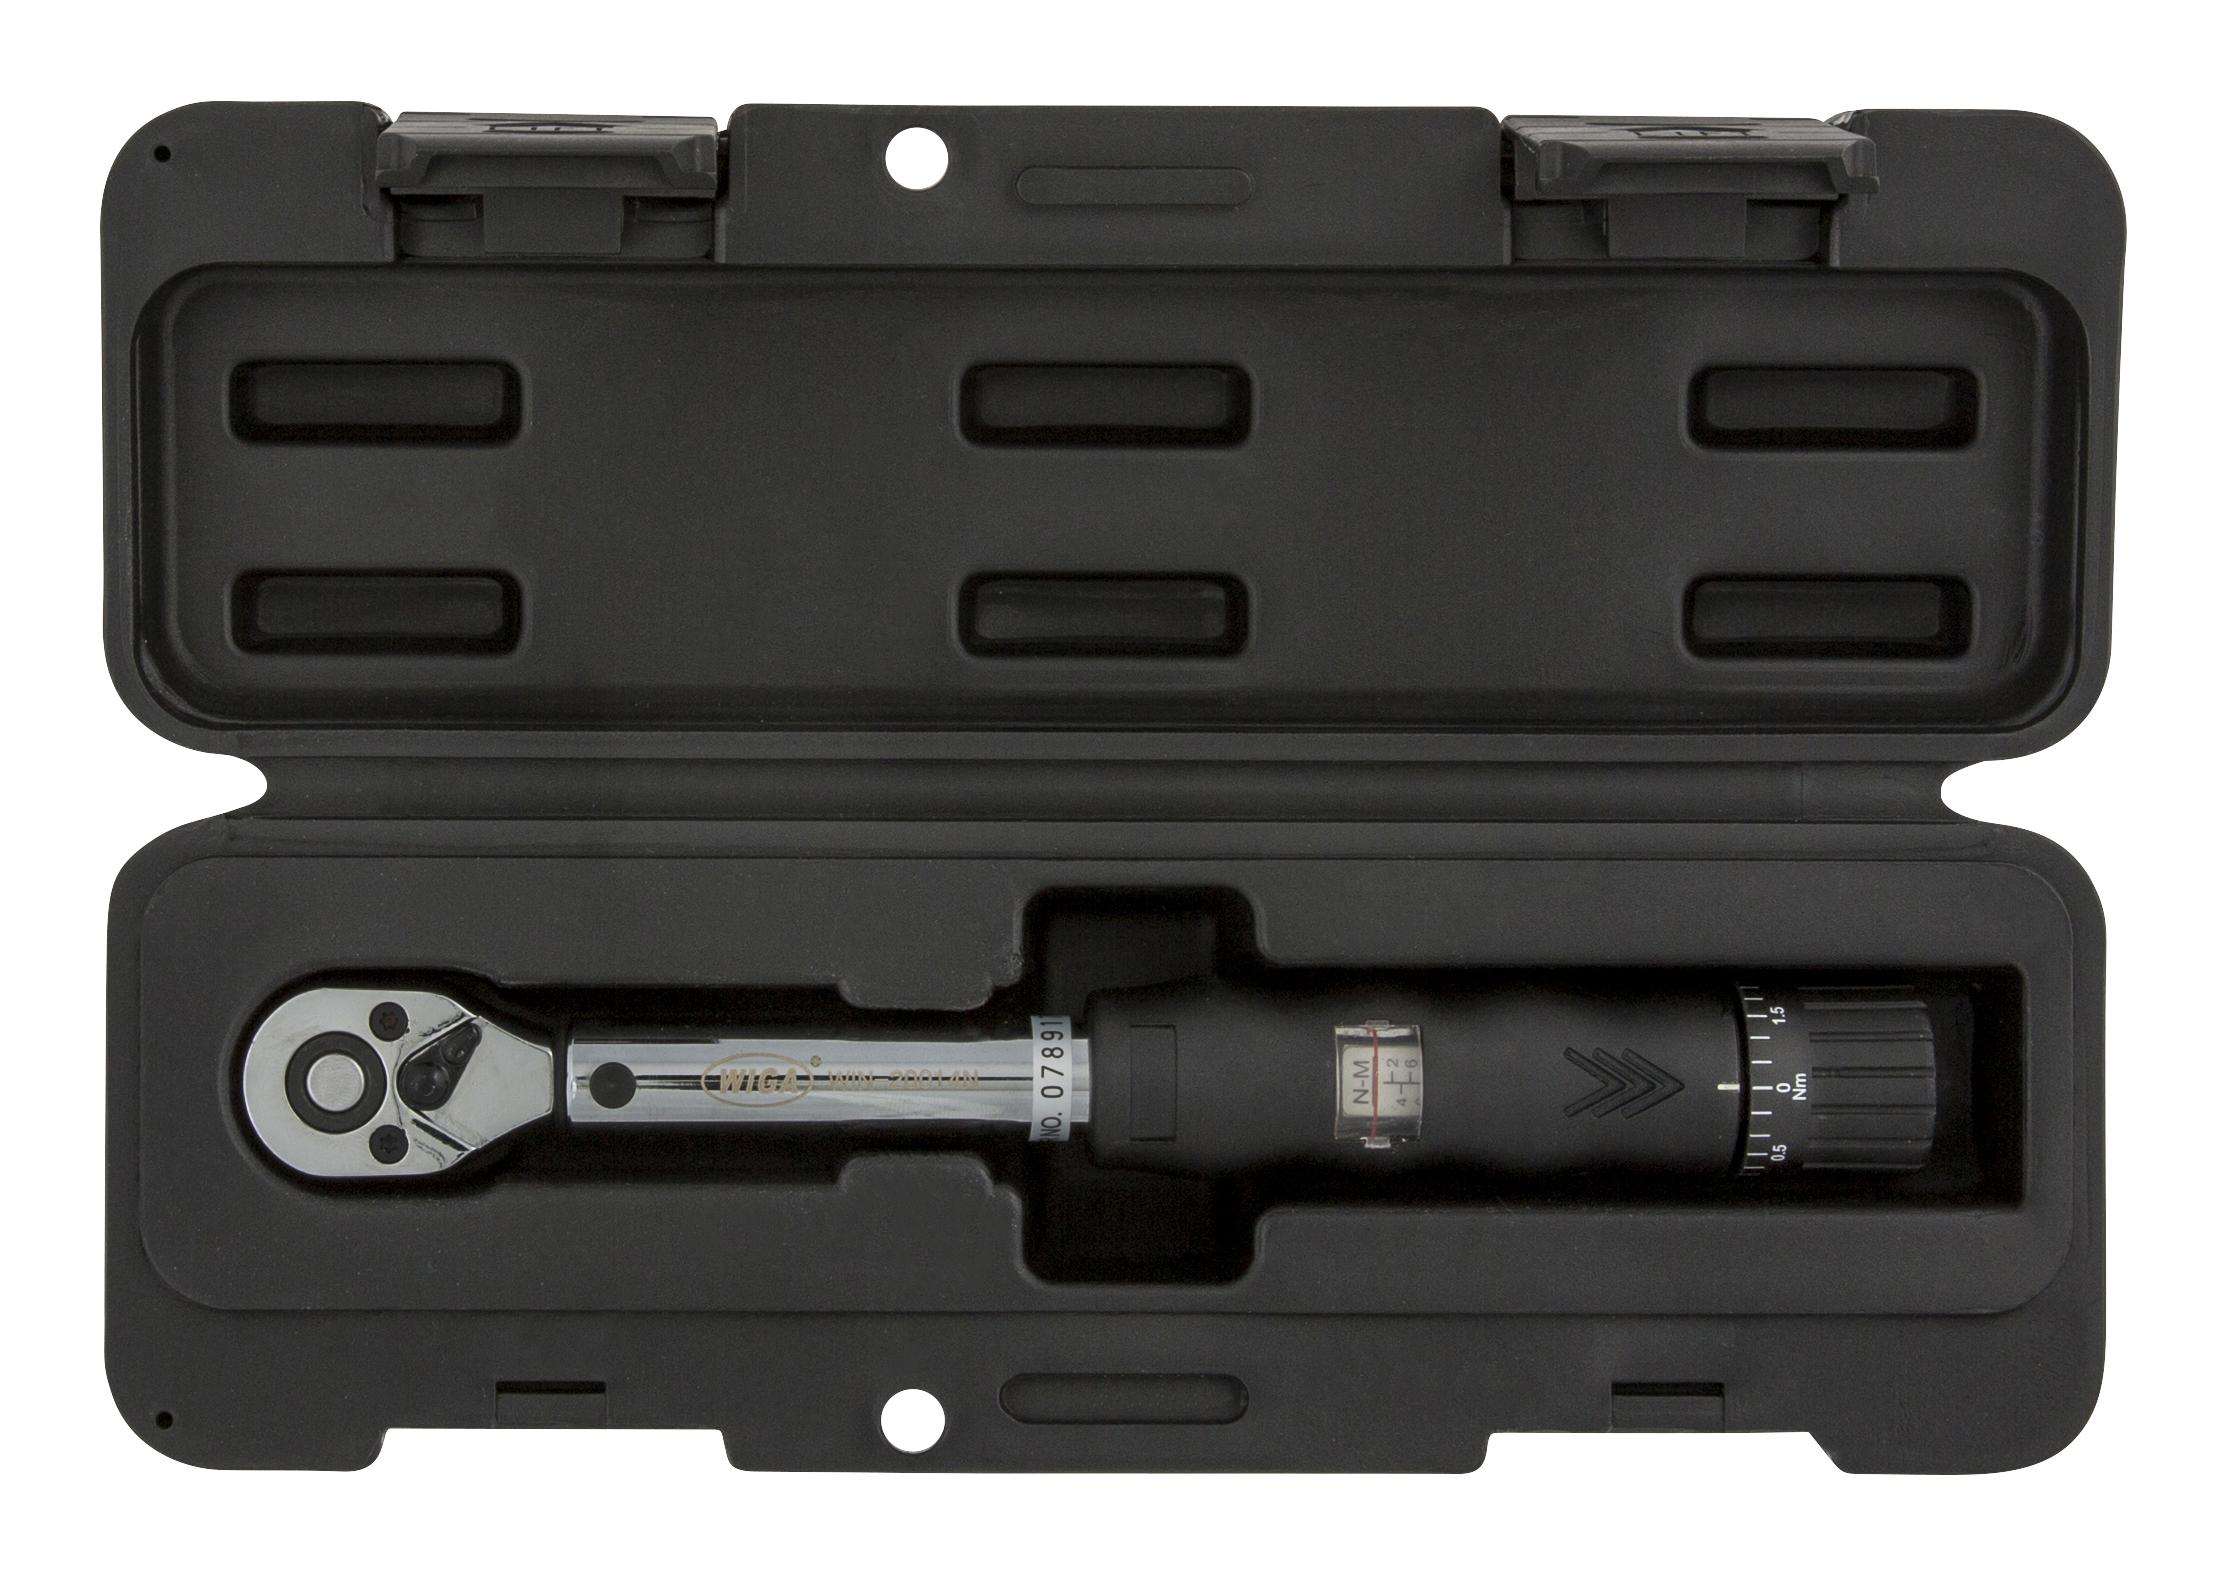Tool: (230, 966, 567, 1210)
